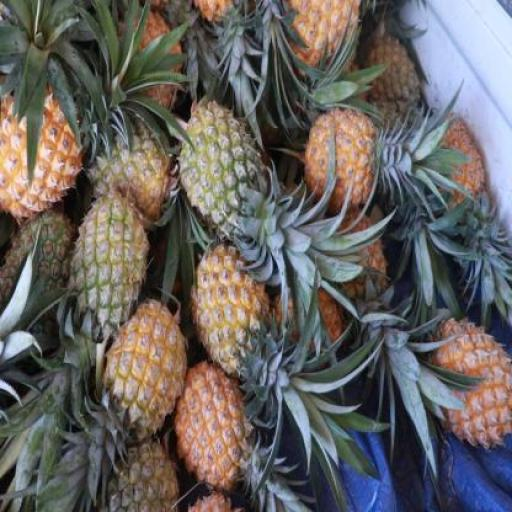------------------------------: (106, 305, 186, 441), (69, 195, 144, 329), (172, 360, 248, 492), (180, 103, 257, 231), (90, 119, 168, 228), (202, 455, 284, 512)
Pineapple - v8 v1: (0, 91, 92, 222), (432, 314, 512, 448), (192, 253, 272, 386), (306, 114, 376, 216)
